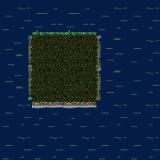Slow: (101, 0, 160, 160), (0, 0, 27, 160), (28, 108, 100, 160), (28, 0, 100, 31)
